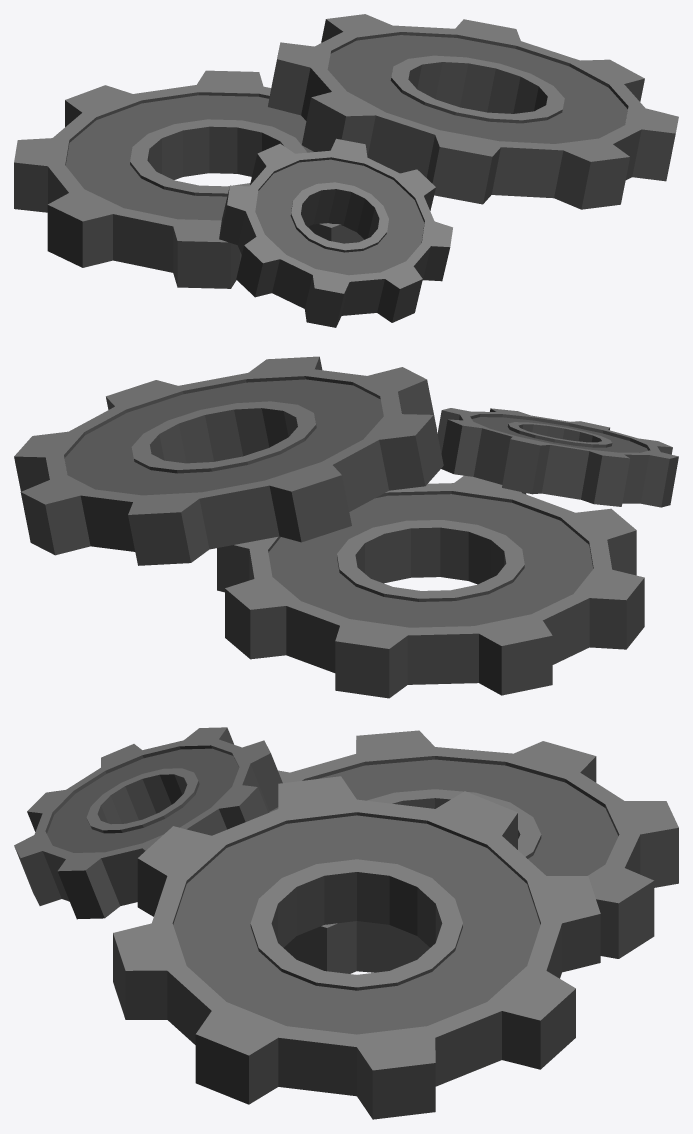
File: SM_Int_Gear.fbx
3 views of the same model, one above another, from view 1: azimuth 30°, elevation 25°; view 2: azimuth 150°, elevation 25°; view 3: azimuth 270°, elevation 25° (orthographic). The views are drawn at different scales.
Parts seen in each view (by area): view 1: SM_Int_Gear; view 2: SM_Int_Gear; view 3: SM_Int_Gear.
Boxes of the visible parts, x1,y1,x2,y2 form: SM_Int_Gear: [14, 14, 678, 327]; SM_Int_Gear: [14, 356, 678, 698]; SM_Int_Gear: [14, 727, 678, 1119].
Size of the model in its own units: 1 by 0.2003 by 0.8288.
Materials: 1 (1 with a texture image).
